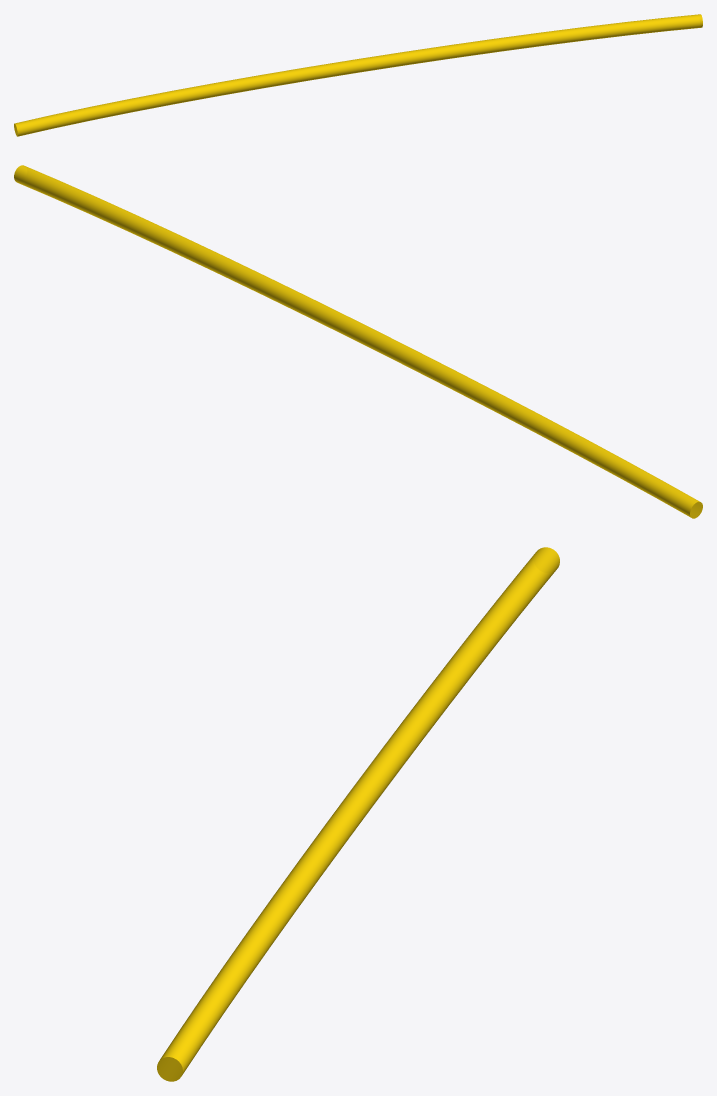
File: Event_421115418_track_78.fbx
3 views of the same model, one above another, from view 1: azimuth 30°, elevation 25°; view 2: azimuth 150°, elevation 25°; view 3: azimuth 270°, elevation 25° (orthographic). The views are drawn at different scales.
Parts seen in each view (by area): view 1: Model; view 2: Model; view 3: Model.
Boxes of the visible parts, x1,y1,x2,y2 form: Model: [14, 14, 702, 136]; Model: [14, 165, 702, 518]; Model: [157, 547, 559, 1081].
Size of the model in its own units: 2.01 by 0.1505 by 0.5919.
